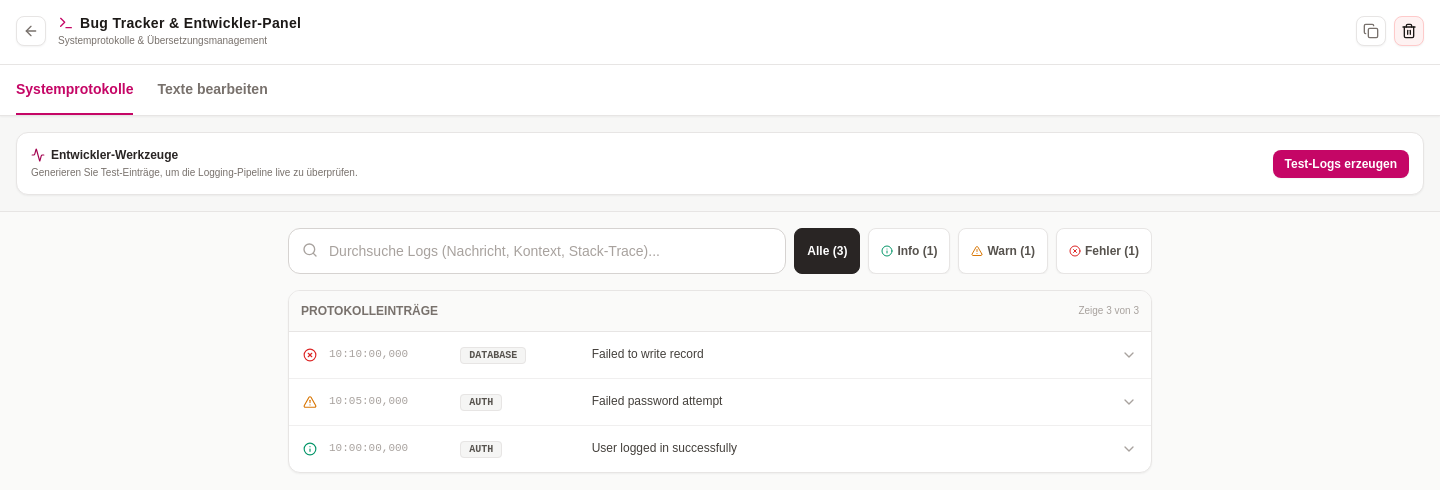
Test: Logs Dashboard Page Tests › allows searching logs by search term
Check: the text "User logged in successfully" is shown, box [592, 441, 737, 455]
Type "password" into the field with placeholder "Durchsuche Logs (Nachricht, Kontext, Stack-Trace)..." at {"x": 537, "y": 251}, box [288, 228, 786, 274]
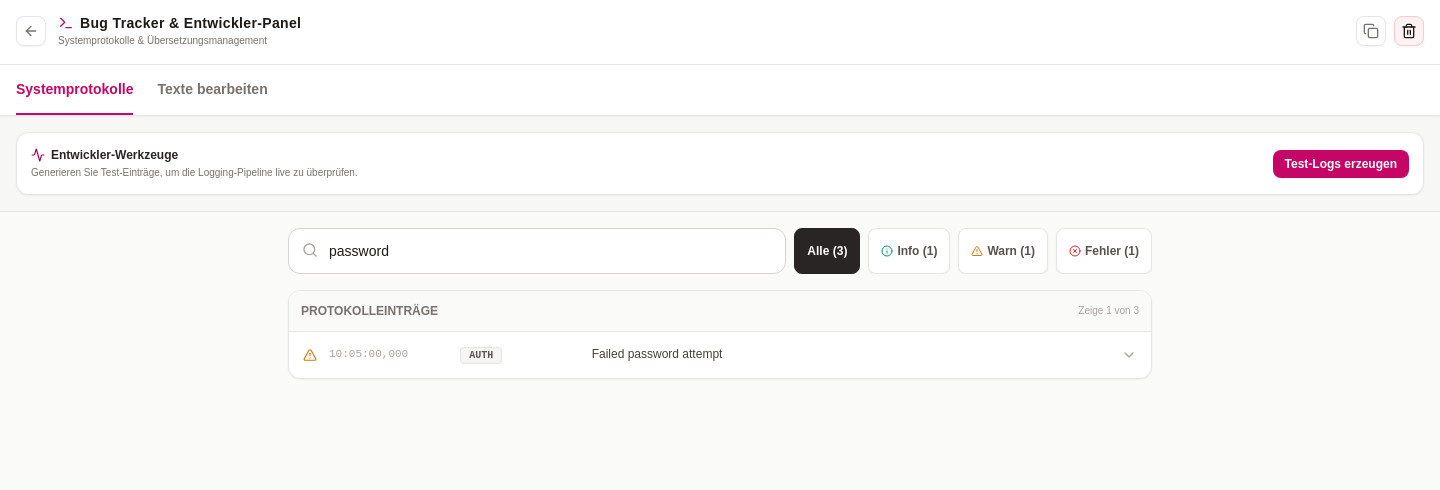
Check: the text "Failed password attempt" is shown, box [592, 347, 722, 361]
Check: the text "User logged in successfully" is gone
